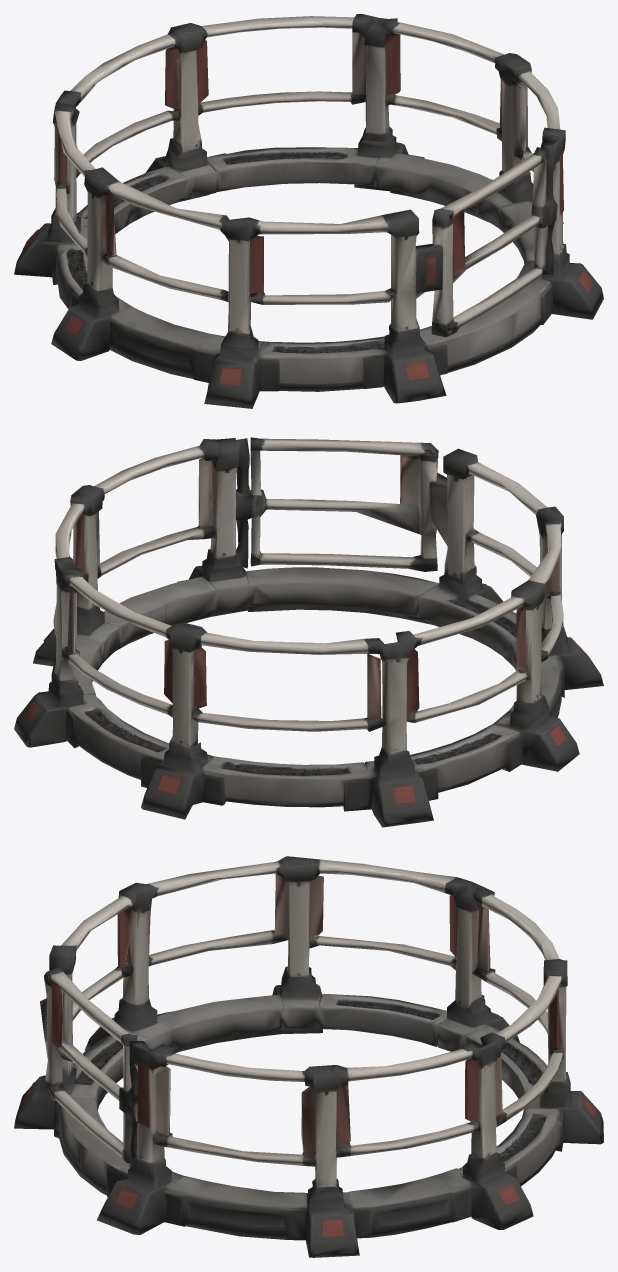
Rendered from ENV_ALL_134_v001_RAW.glb.glb.
The picture shows the model from 3 angles, top to bottom: view 1: azimuth 30°, elevation 25°; view 2: azimuth 150°, elevation 25°; view 3: azimuth 270°, elevation 25°; orthographic projection.
Parts seen in each view (by area): view 1: tripo_node_3179ba6f-7cf4-4b0c-b564-63adeff9f91f; view 2: tripo_node_3179ba6f-7cf4-4b0c-b564-63adeff9f91f; view 3: tripo_node_3179ba6f-7cf4-4b0c-b564-63adeff9f91f.
Boxes of the visible parts, x1=… form: tripo_node_3179ba6f-7cf4-4b0c-b564-63adeff9f91f: x1=14, y1=14, x2=603, y2=408; tripo_node_3179ba6f-7cf4-4b0c-b564-63adeff9f91f: x1=14, y1=437, x2=603, y2=827; tripo_node_3179ba6f-7cf4-4b0c-b564-63adeff9f91f: x1=14, y1=856, x2=603, y2=1257.
Bounding box in the file's own units: 0.9774 × 0.3079 × 0.978.
Materials: 1 (1 with a texture image).
